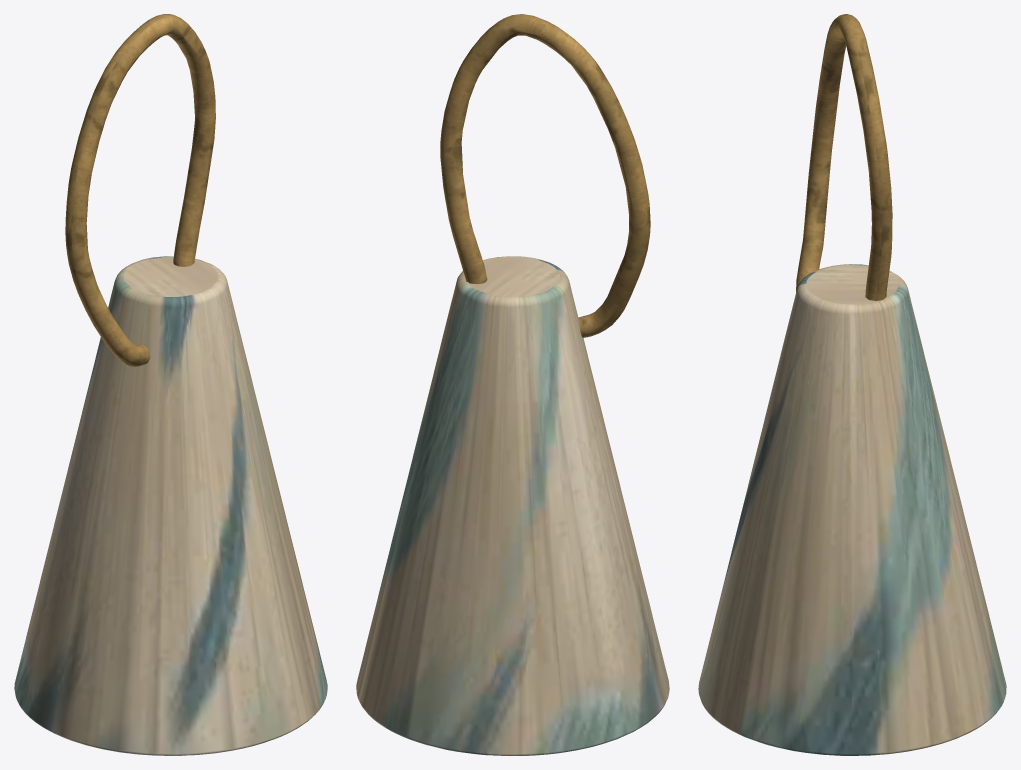
Rendered from Medenka_01_Smycka_bila.glb.
3 views of the same model, side by side, from view 1: azimuth 30°, elevation 25°; view 2: azimuth 150°, elevation 25°; view 3: azimuth 270°, elevation 25° (orthographic).
Parts seen in each view (by area): view 1: Telo, Smycka; view 2: Telo, Smycka; view 3: Telo, Smycka.
Boxes of the visible parts, x1,y1,x2,y2 form: Telo: [14, 256, 327, 755]; Smycka: [65, 14, 215, 366]; Telo: [356, 256, 669, 755]; Smycka: [440, 14, 650, 337]; Telo: [698, 264, 1006, 755]; Smycka: [796, 14, 892, 300].
Bounding box in the file's own units: 0.0398 × 0.095 × 0.0398.
2 materials, 2 textured.
